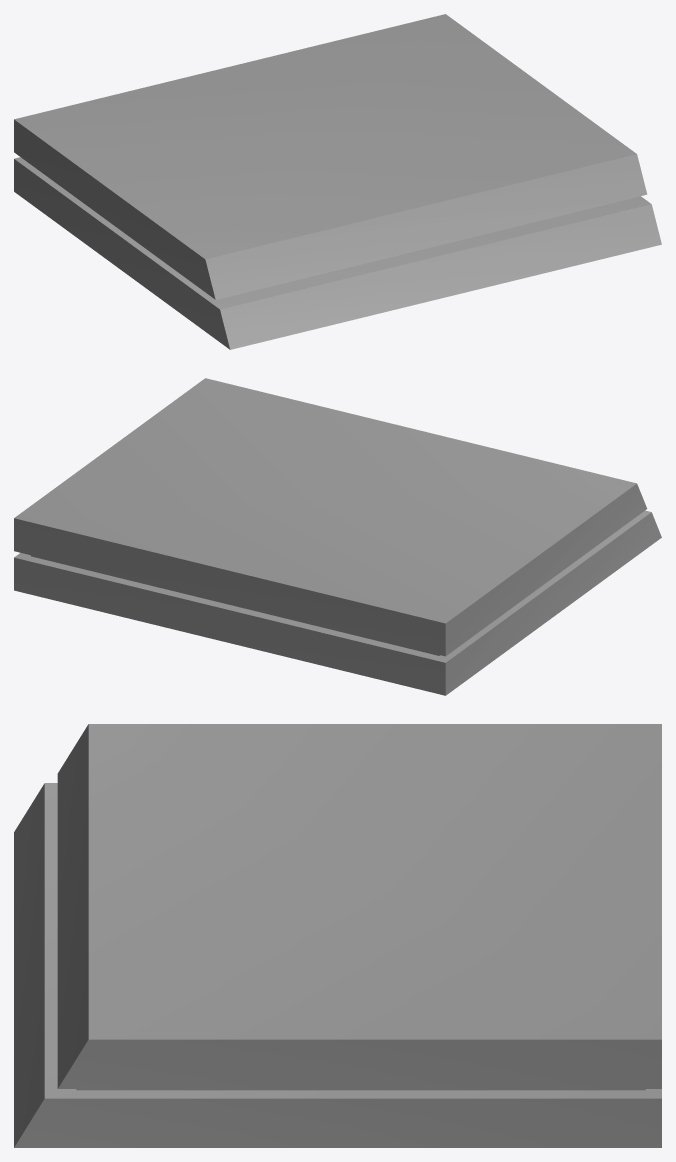
The model's file is Plastation.fbx.
3 renders of one model, top to bottom at view 1: azimuth 30°, elevation 25°; view 2: azimuth 150°, elevation 25°; view 3: azimuth 270°, elevation 25°, orthographic. The views are drawn at different scales.
Visible parts, largest first — view 1: playstation; view 2: playstation; view 3: playstation.
Part boxes in pixels (x1=…): playstation: x1=14, y1=14, x2=661, y2=349; playstation: x1=14, y1=378, x2=661, y2=695; playstation: x1=14, y1=724, x2=661, y2=1147.
Size of the model in its own units: 32.76 by 5.25 by 28.43.
